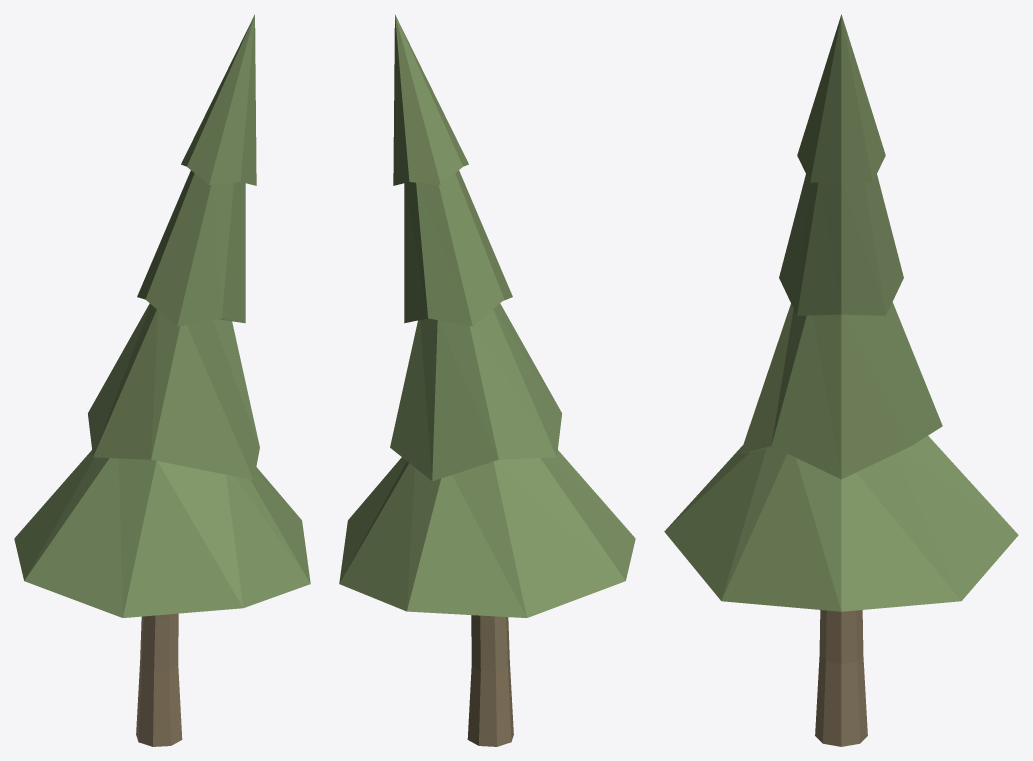
File: fir-tree_three.fbx
3 renders of one model, left to right at view 1: azimuth 30°, elevation 25°; view 2: azimuth 150°, elevation 25°; view 3: azimuth 270°, elevation 25°, orthographic. The views are drawn at different scales.
Parts seen in each view (by area): view 1: fir_tree_three; view 2: fir_tree_three; view 3: fir_tree_three.
Part boxes in pixels (x1,y1,x2,y2): fir_tree_three: (14,14,310,746); fir_tree_three: (339,14,635,746); fir_tree_three: (664,14,1018,746).
Bounding box in the file's own units: 494 × 1189 × 494.
